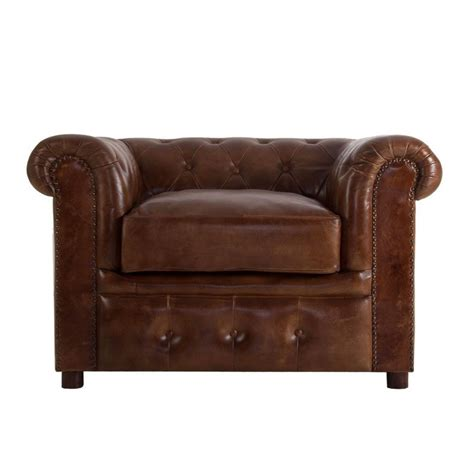cuero: (28, 133, 444, 375)
